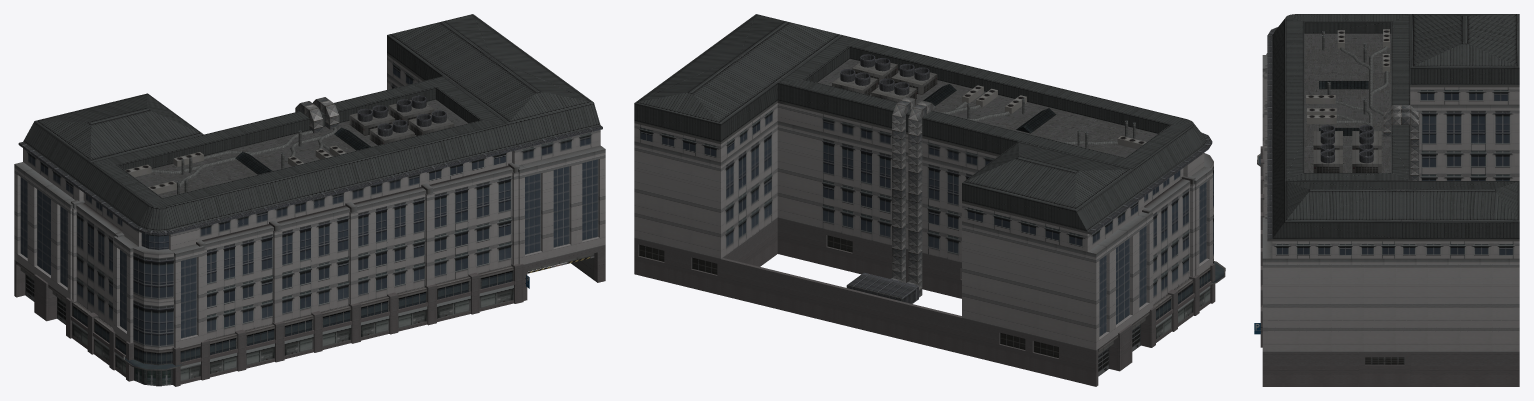
The model's file is building.glb.
3 renders of one model, left to right at view 1: azimuth 30°, elevation 25°; view 2: azimuth 150°, elevation 25°; view 3: azimuth 270°, elevation 25°, orthographic. The views are drawn at different scales.
Visible parts, largest first — view 1: AIT01W2W4; view 2: AIT01W2W4; view 3: AIT01W2W4.
Boxes of the visible parts, x1=… form: AIT01W2W4: x1=14, y1=14, x2=605, y2=386; AIT01W2W4: x1=634, y1=14, x2=1225, y2=386; AIT01W2W4: x1=1254, y1=14, x2=1519, y2=386.
Bounding box in the file's own units: 64.71 × 25.09 × 33.04.
1 material, 1 textured.
